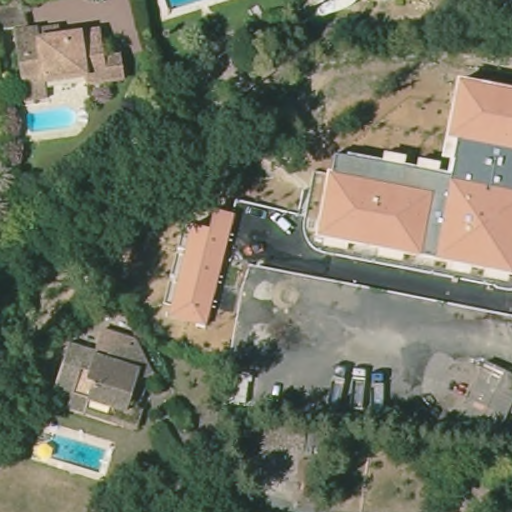pool: (29, 424, 110, 475), (15, 99, 90, 141), (156, 1, 220, 15)
